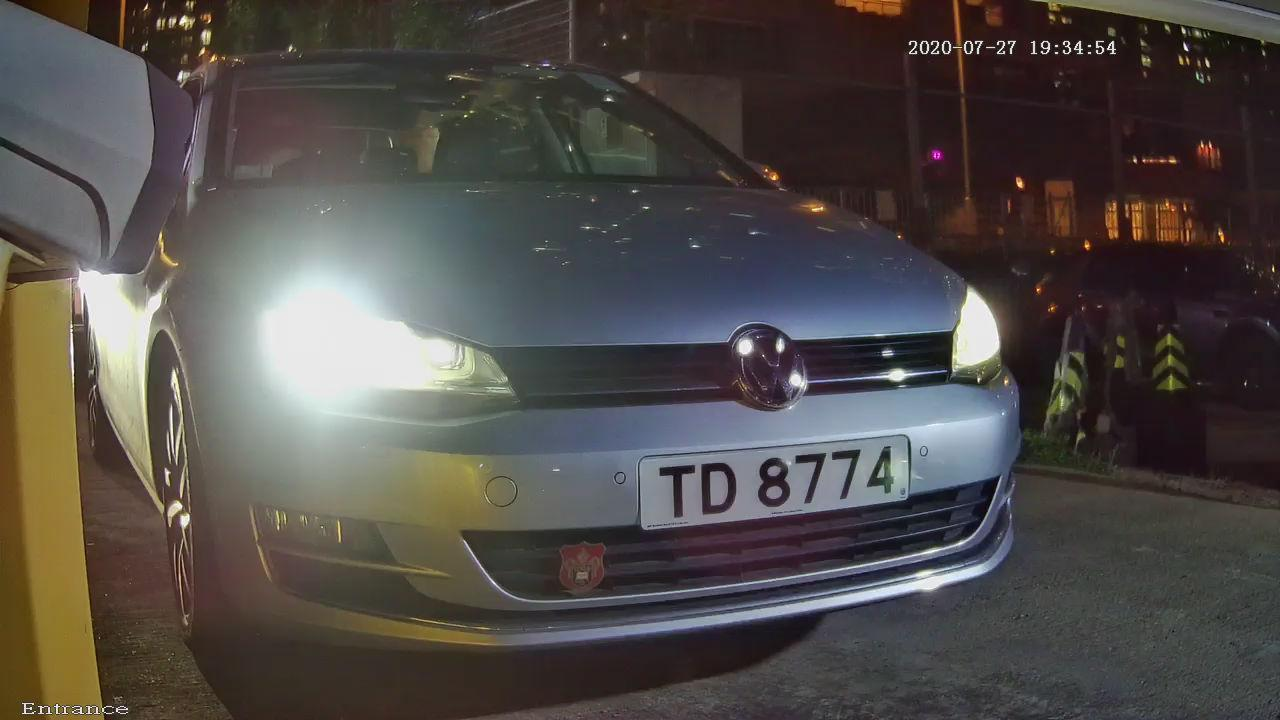privatecar: (115, 20, 1046, 685)
